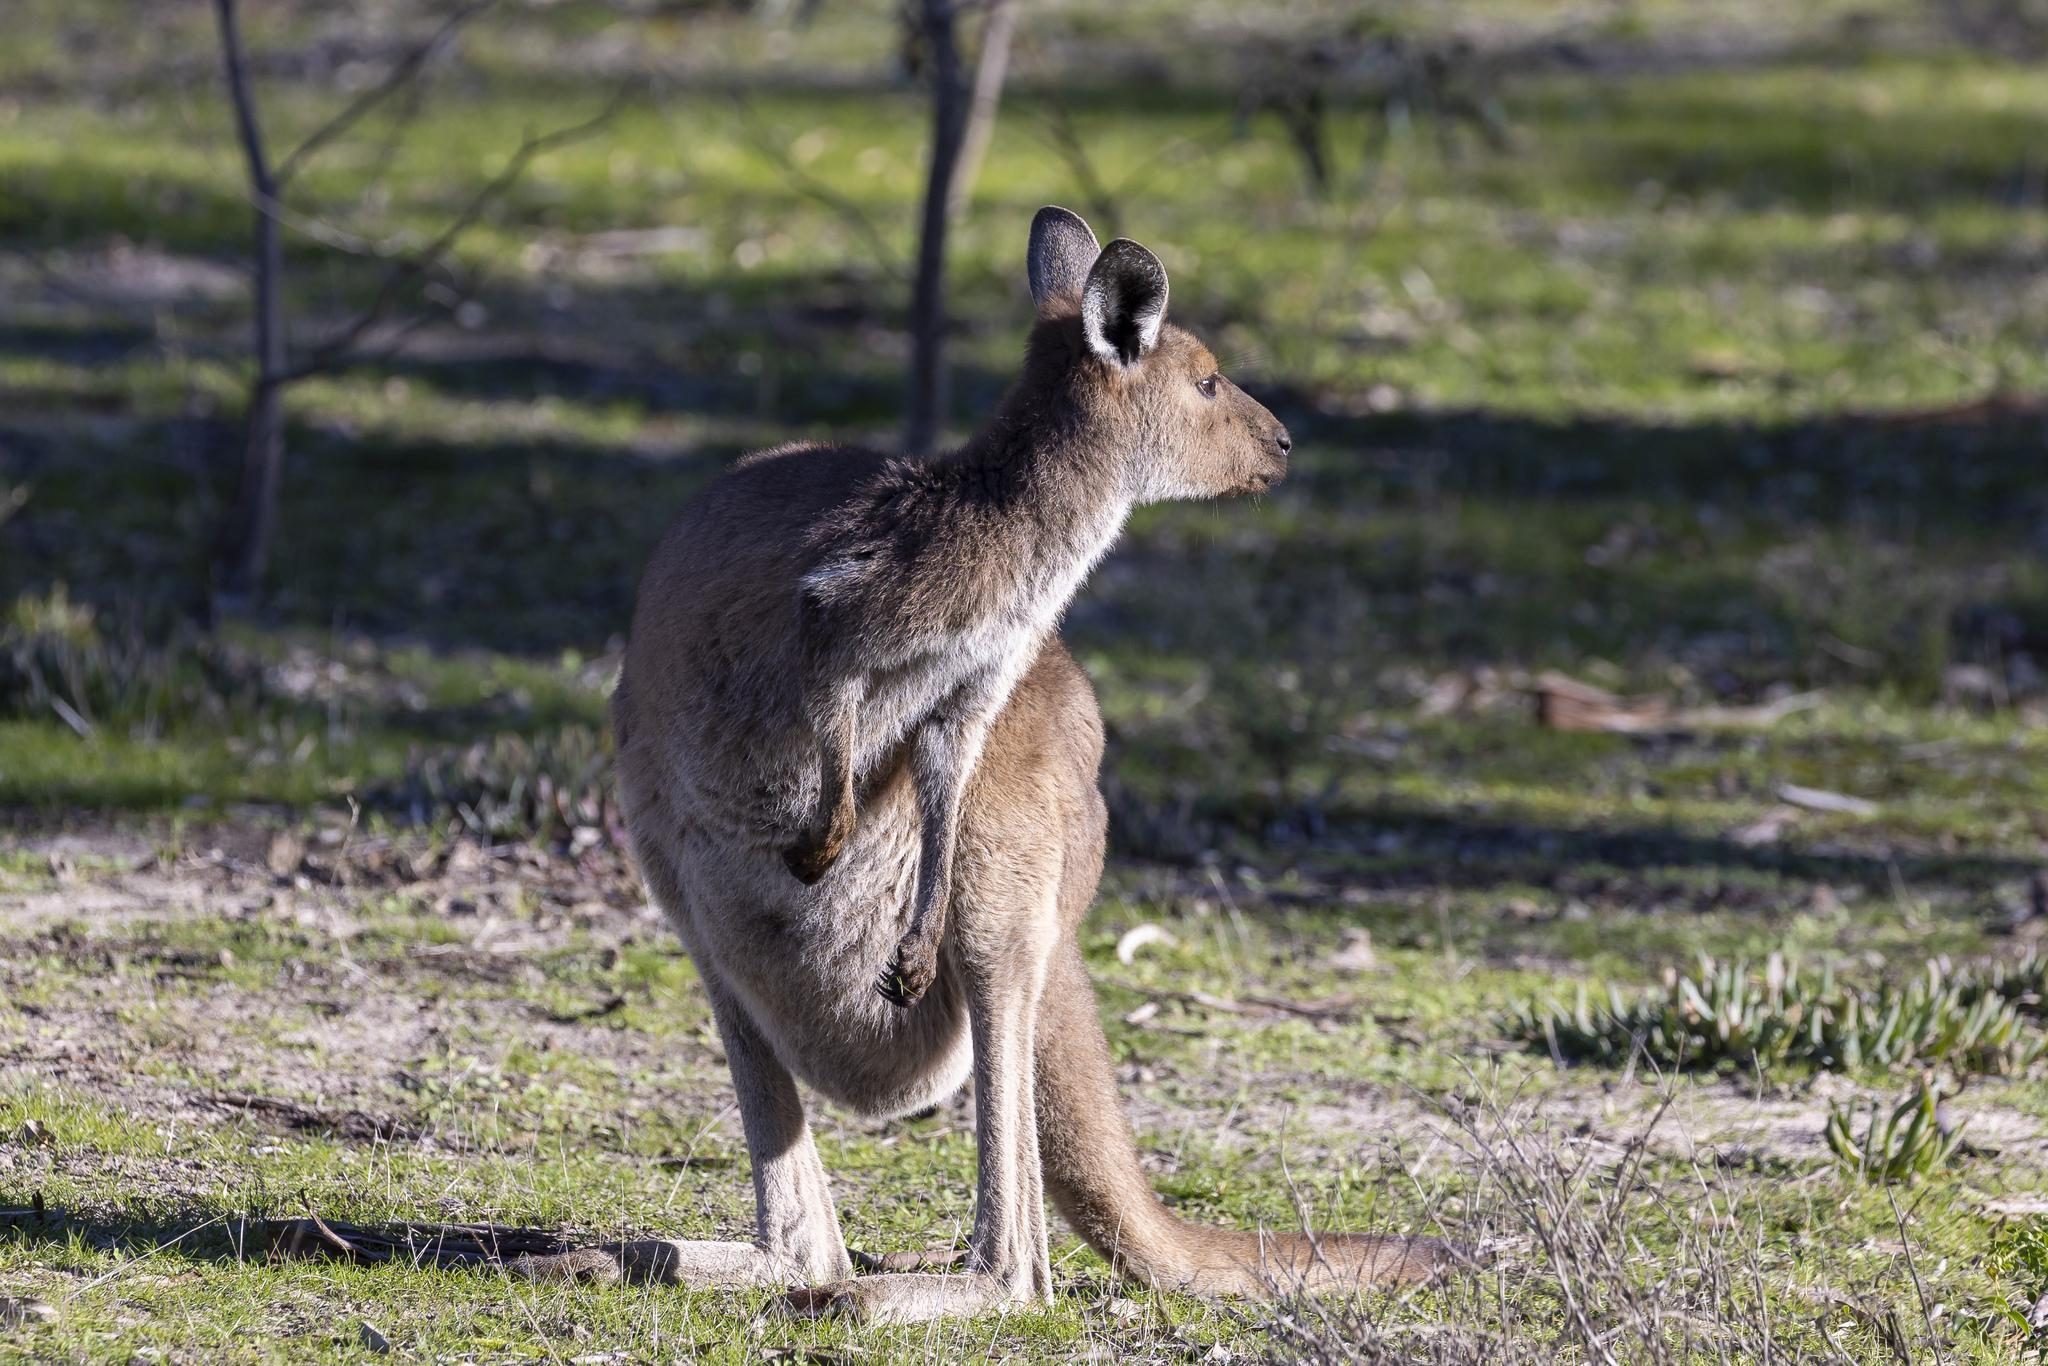Western grey kangaroo: (553, 192, 1516, 1329)
